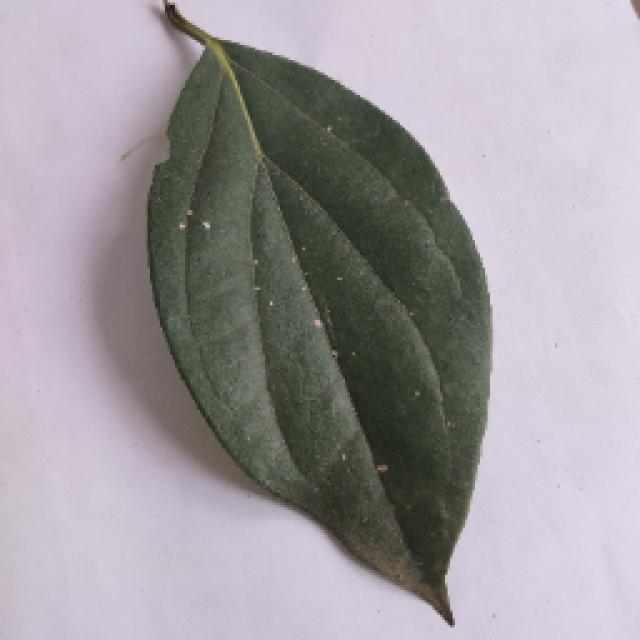pollu-disease: (140, 5, 490, 623)
